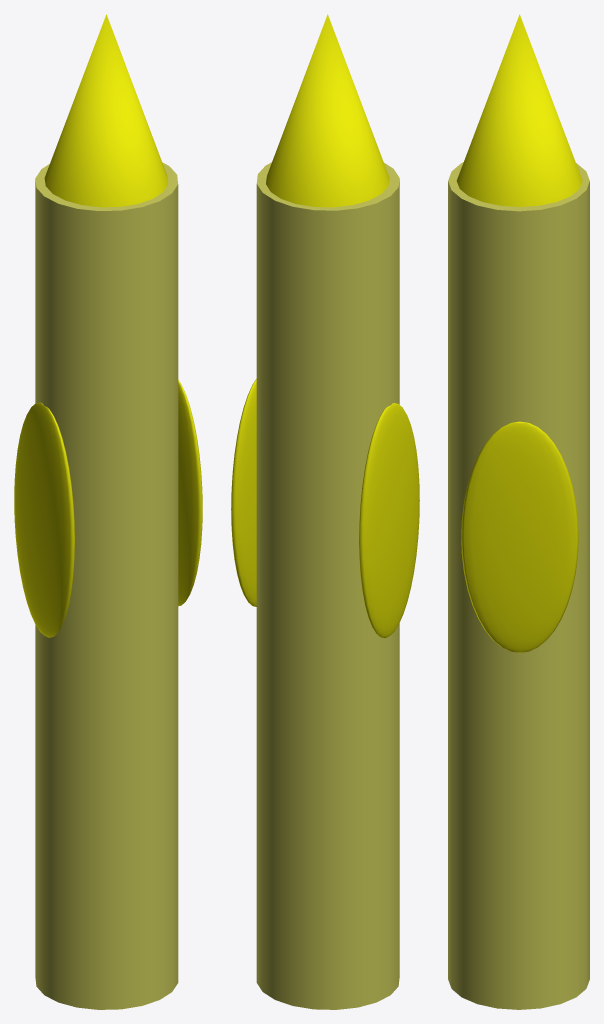
Rendered from crayon.fbx.
The picture shows the model from 3 angles, left to right: view 1: azimuth 30°, elevation 25°; view 2: azimuth 150°, elevation 25°; view 3: azimuth 270°, elevation 25°; orthographic projection.
Parts seen in each view (by area): view 1: pasted__pSphere1; view 2: pasted__pSphere1; view 3: pasted__pSphere1.
Part boxes in pixels (x1=…): pasted__pSphere1: x1=14, y1=14, x2=202, y2=1009; pasted__pSphere1: x1=231, y1=14, x2=419, y2=1009; pasted__pSphere1: x1=448, y1=14, x2=589, y2=1009.
Bounding box in the file's own units: 0.1 × 0.6431 × 0.0856.
